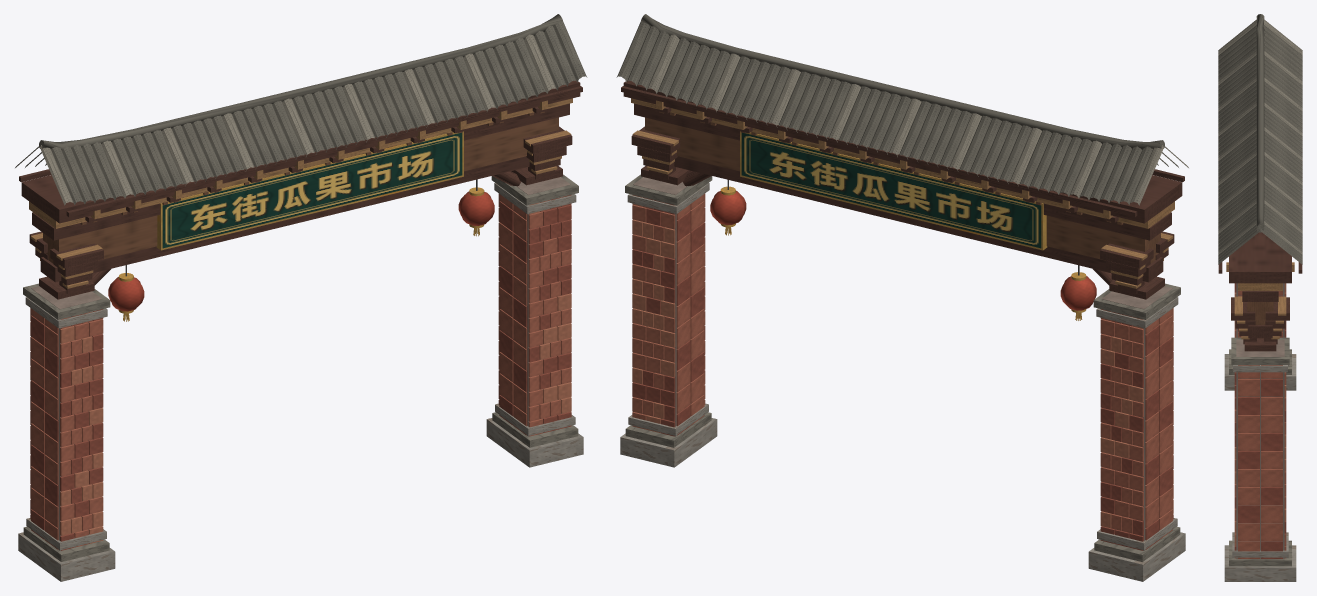
Rendered from scene-entrance-gate.glb.
The picture shows the model from 3 angles, left to right: view 1: azimuth 30°, elevation 25°; view 2: azimuth 150°, elevation 25°; view 3: azimuth 270°, elevation 25°; orthographic projection. The views are drawn at different scales.
Visible parts, largest first — view 1: scene-entrance-gate; view 2: scene-entrance-gate; view 3: scene-entrance-gate.
Boxes of the visible parts, x1,y1,x2,y2 form: scene-entrance-gate: (15, 14, 587, 581); scene-entrance-gate: (616, 14, 1188, 581); scene-entrance-gate: (1218, 14, 1302, 581).
Size of the model in its own units: 10.8 by 8.4 by 1.8.
Materials: 2 (2 with a texture image).
